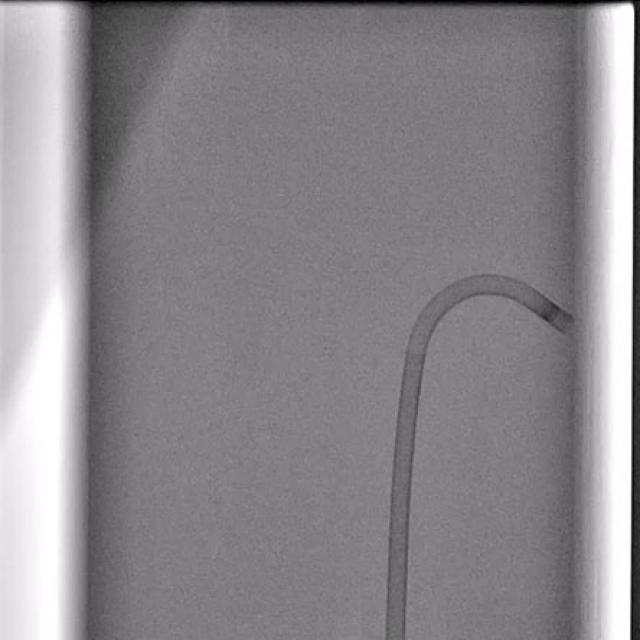bend: (407, 332, 431, 351)
entry: (386, 633, 406, 640)
marker: (540, 302, 562, 323)
tip: (564, 320, 577, 335)
